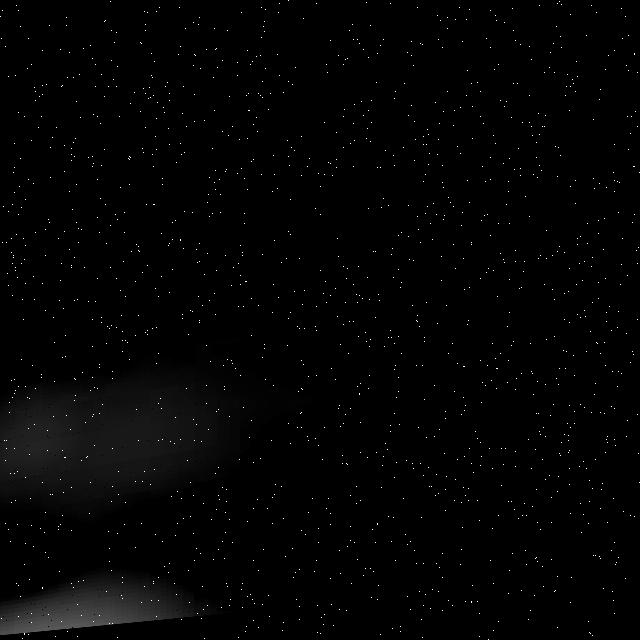person: (1, 252, 503, 557), (1, 534, 310, 640)
